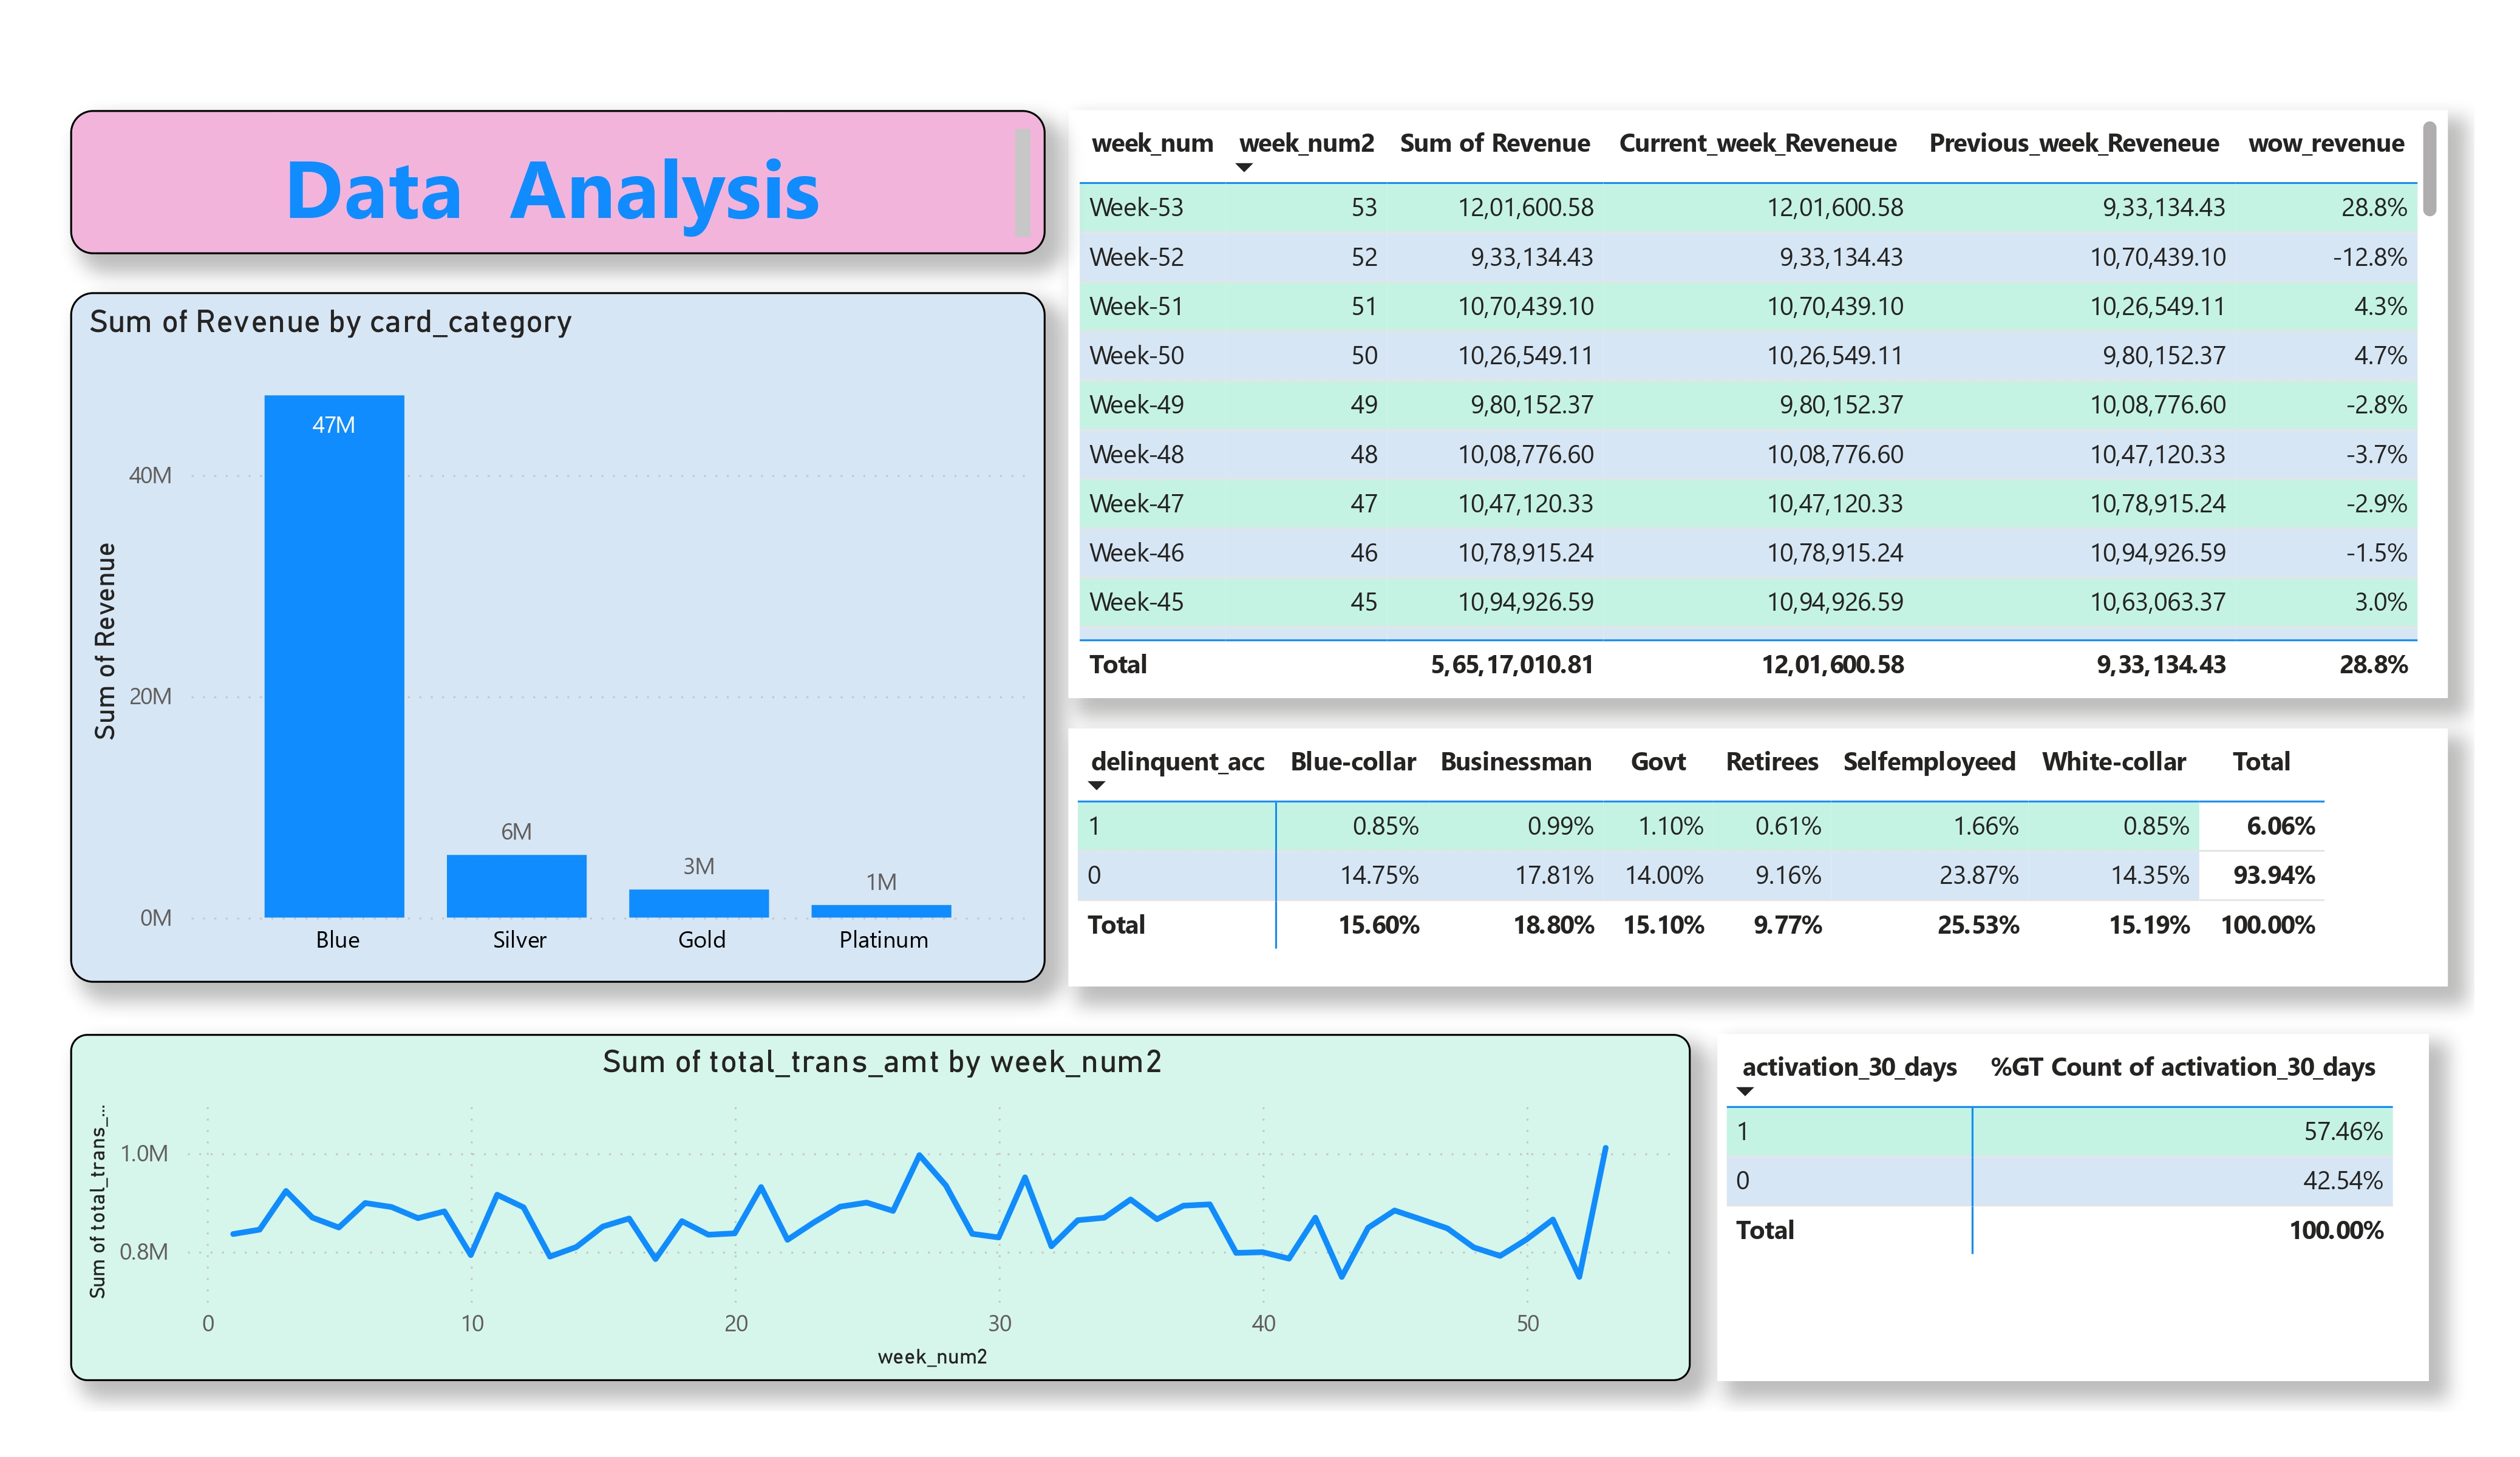

This screenshot's page, from the dashboard's own definition file:
{"tool":"powerbi","page":{"name":"Page 1","canvas":[1280,720],"ordinal":0},"visuals":[{"type":"columnChart","fields":{"Category":["public cc_detail.card_category"],"Y":["Sum(public cc_detail.Revenue)"]},"box":[12.9,130,514.3,364.3],"z":0},{"type":"tableEx","fields":{"Values":["public cc_detail.week_num","public cc_detail.week_num2","Sum(public cc_detail.Revenue)","public cc_detail.Current_week_Reveneue","public cc_detail.Previous_week_Reveneue","public cc_detail.wow_revenue"]},"box":[538.6,34.3,727.1,310],"z":1000},{"type":"lineChart","fields":{"Y":["Sum(public cc_detail.total_trans_amt)"],"Category":["public cc_detail.week_num2","public cc_detail.week_start_date.Variation.Date Hierarchy.Month","public cc_detail.week_start_date.Variation.Date Hierarchy.Day"]},"box":[12.9,521.4,854.3,182.9],"z":2000},{"type":"pivotTable","fields":{"Rows":["public cc_detail.delinquent_acc"],"Columns":["public cust_detail.customer_job"],"Values":["Min(public cc_detail.delinquent_acc)"]},"box":[538.6,360,727.1,135.7],"z":3000},{"type":"pivotTable","fields":{"Values":["Sum(public cc_detail.activation_30_days)"],"Rows":["public cc_detail.activation_30_days"],"Columns":["public cc_detail.activation_30_days"]},"box":[881.4,521.4,374.3,182.9],"z":4000},{"type":"textbox","box":[12.9,34.3,514.3,75.7],"z":4001}]}

Visuals, with their boxes in screenshot pixels (x1, y1, x2, y2):
columnChart - public cc_detail.card_category x Sum(public cc_detail.Revenue): 70:292:1046:983
tableEx - public cc_detail.week_num x public cc_detail.week_num2: 1068:110:2447:699
lineChart - Sum(public cc_detail.total_trans_amt) x public cc_detail.week_num2: 70:1034:1691:1382
pivotTable - public cc_detail.delinquent_acc x public cust_detail.customer_job: 1068:728:2447:986
pivotTable - Sum(public cc_detail.activation_30_days) x public cc_detail.activation_30_days: 1718:1034:2428:1382
textbox: 70:110:1046:254
